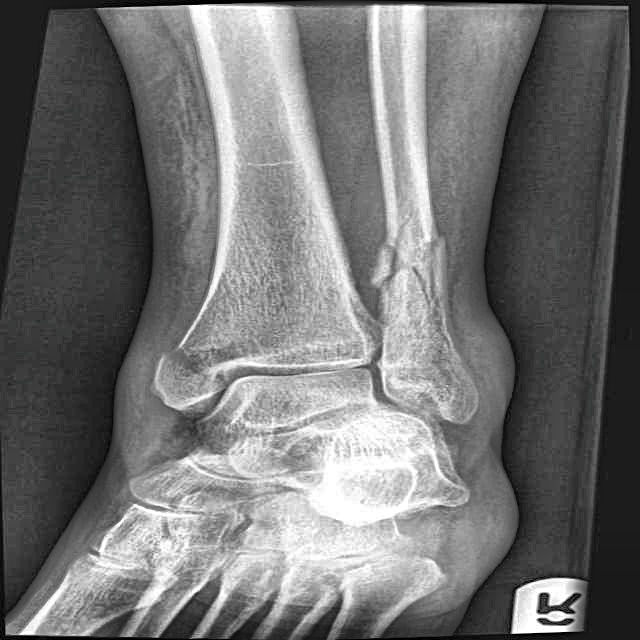Comminuted: (363, 221, 470, 314)
Greenstick: (138, 330, 267, 392)
